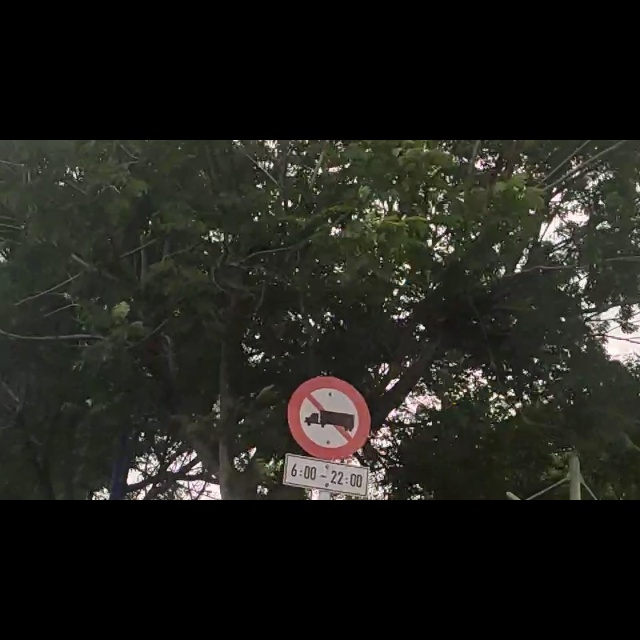bien_cam: (284, 422, 376, 621)
